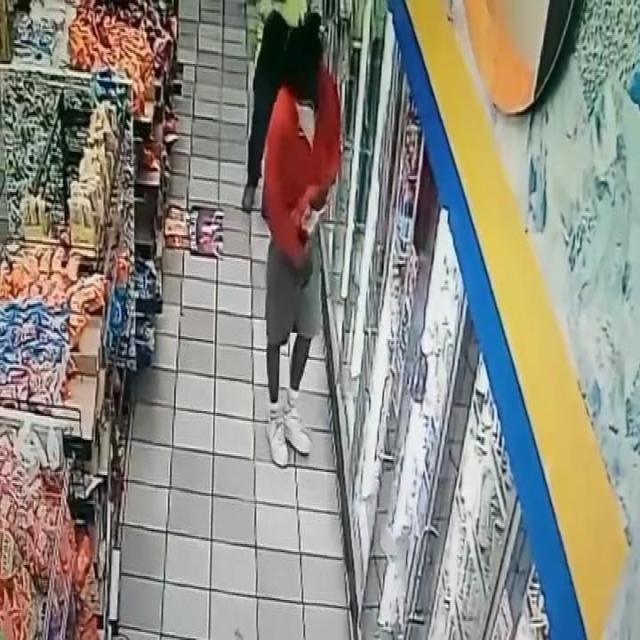Shoplifting: (227, 0, 352, 504)
